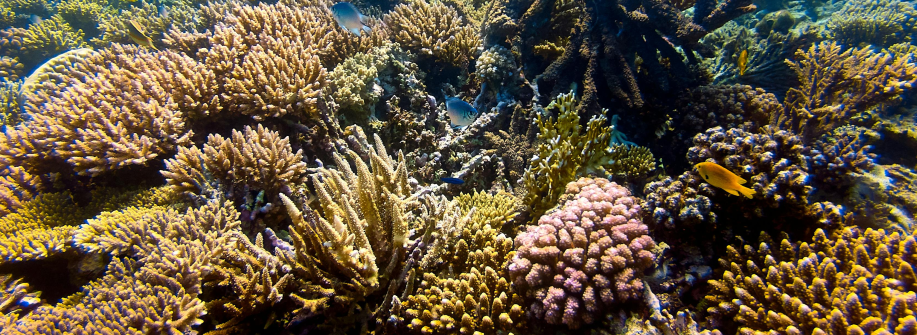fishRound: (694, 161, 755, 200), (329, 2, 372, 38), (445, 94, 479, 130)
